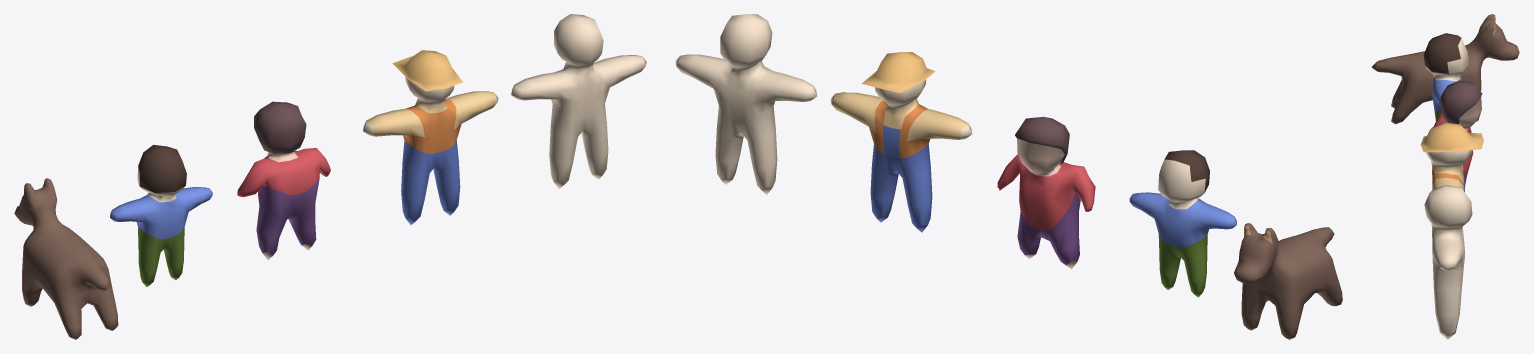
The model's file is persons.glb.
3 views of the same model, side by side, from view 1: azimuth 30°, elevation 25°; view 2: azimuth 150°, elevation 25°; view 3: azimuth 270°, elevation 25° (orthographic). The views are drawn at different scales.
Visible parts, largest first — view 1: Person_building_worker, Person_blank, Dog, Person_old_lady, Person_child; view 2: Person_building_worker, Person_blank, Person_old_lady, Dog, Person_child; view 3: Person_blank, Dog, Person_building_worker, Person_child, Person_old_lady.
Part boxes in pixels (<box>): Person_building_worker: <box>363,50,498,224</box>; Person_blank: <box>511,14,646,188</box>; Dog: <box>14,178,118,339</box>; Person_old_lady: <box>237,101,330,259</box>; Person_child: <box>110,145,212,286</box>; Person_building_worker: <box>830,52,972,232</box>; Person_blank: <box>675,14,817,194</box>; Person_old_lady: <box>997,116,1095,268</box>; Dog: <box>1234,223,1342,339</box>; Person_child: <box>1129,150,1236,297</box>; Person_blank: <box>1424,185,1472,339</box>; Dog: <box>1371,14,1519,124</box>; Person_building_worker: <box>1420,122,1483,191</box>; Person_child: <box>1423,33,1469,120</box>; Person_old_lady: <box>1431,80,1482,186</box>.
Bounding box in the file's own units: 0.9128 × 0.2436 × 0.2219.
Materials: 1 (1 with a texture image).
